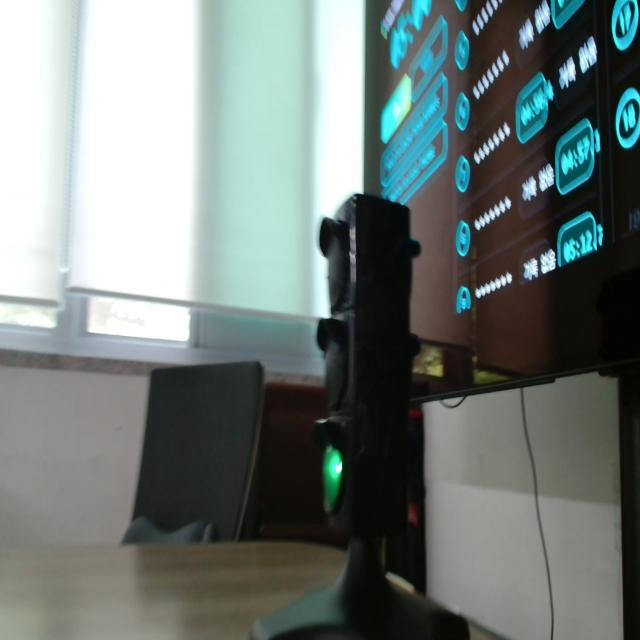green_light: (323, 447, 342, 510)
